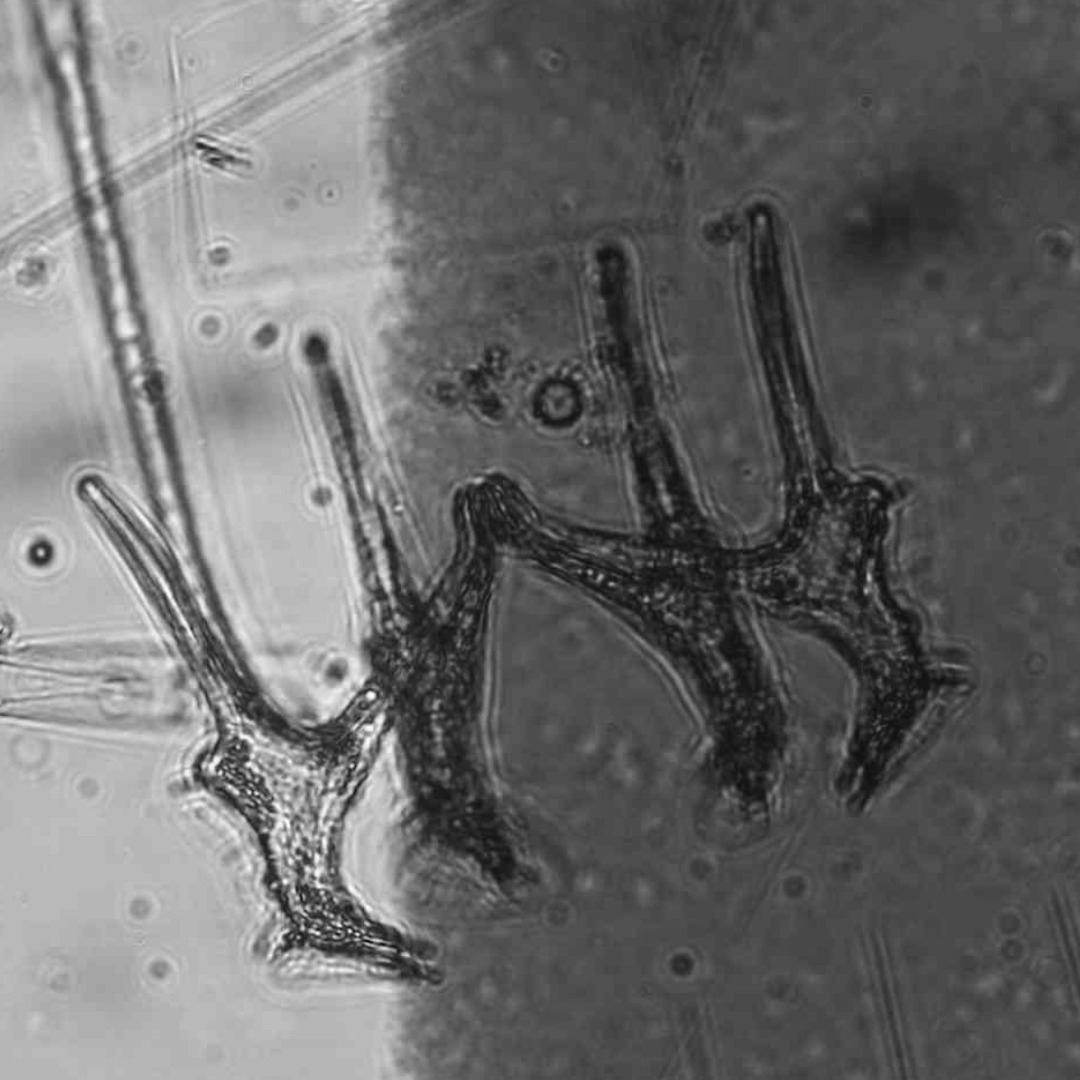dinophysis_miles: (485, 196, 965, 807), (79, 474, 475, 976)
